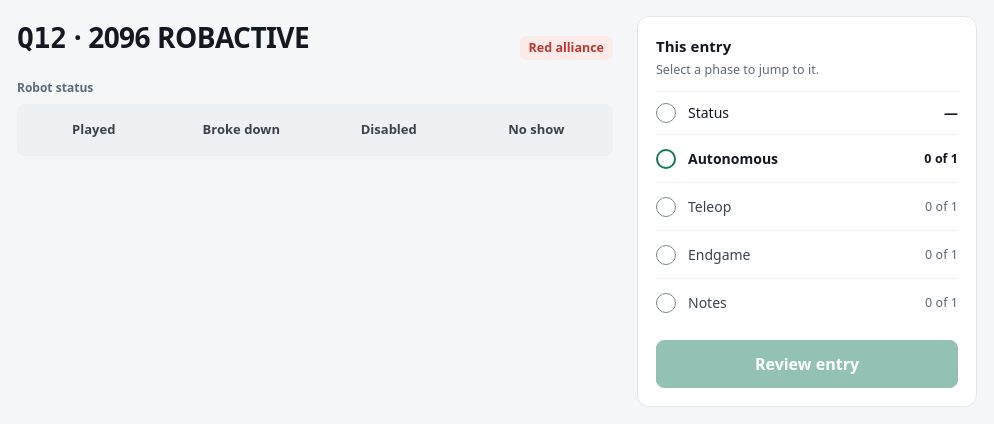
Test: EntryPage › opens a phase from its tab and from the summary panel
Expected: the element "Robot status Played Broke down Disabled No show" is shown, x1=17 y1=80 x2=613 y2=156
Click the radio button labelled "Played": click(94, 130) x1=20 y1=107 x2=168 y2=153
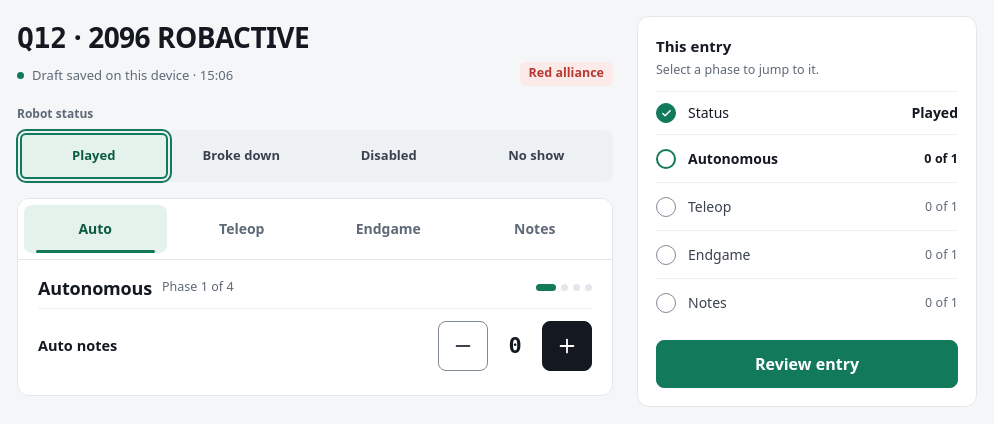
Click the tab "Teleop": click(242, 228) x1=170 y1=204 x2=313 y2=252
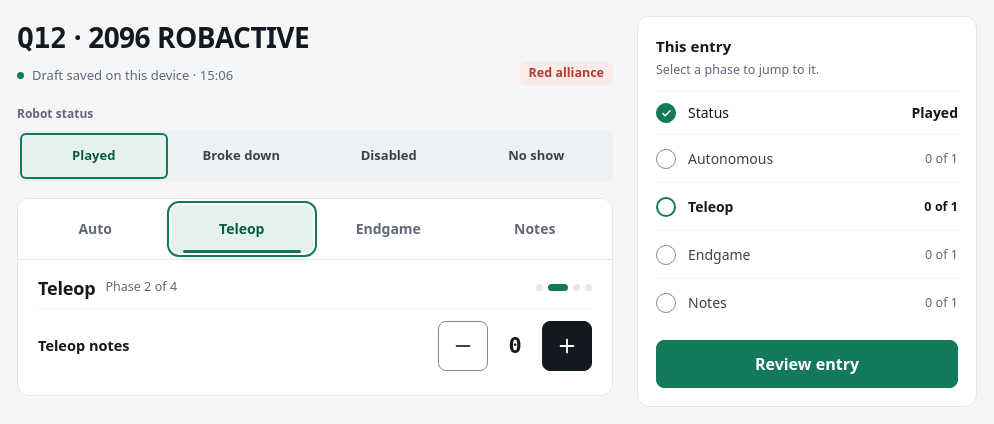
Expected: the heading "Teleop" is shown, x1=38 y1=274 x2=95 y2=302
Expected: the text "Phase 2 of 4" is shown, x1=105 y1=278 x2=177 y2=297
Expected: the text "Auto notes" is gone
Click the button "Endgame 0 of 1": click(719, 254) x1=656 y1=230 x2=958 y2=278
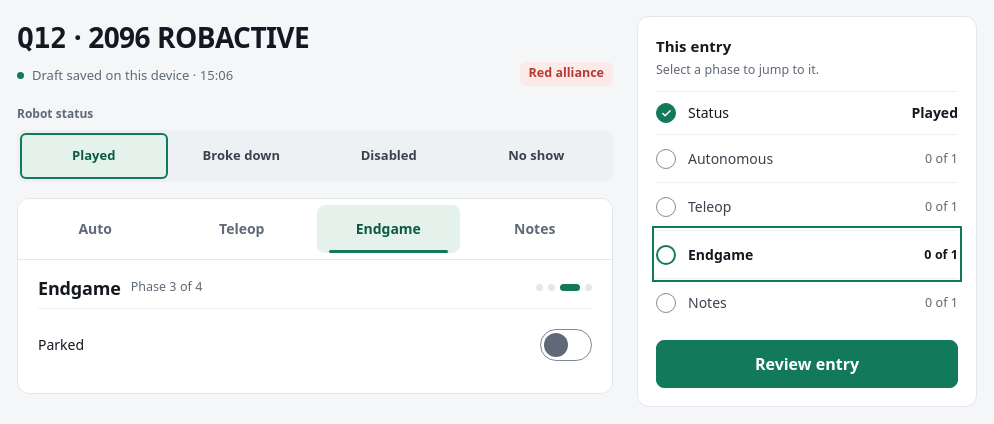
Expected: the switch labelled "Parked" is shown, x1=38 y1=320 x2=592 y2=368
